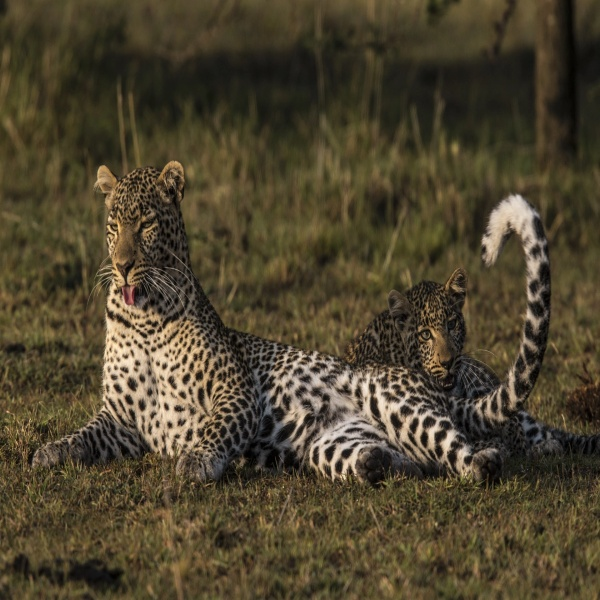Leopard: (30, 160, 563, 494), (340, 269, 555, 454)
